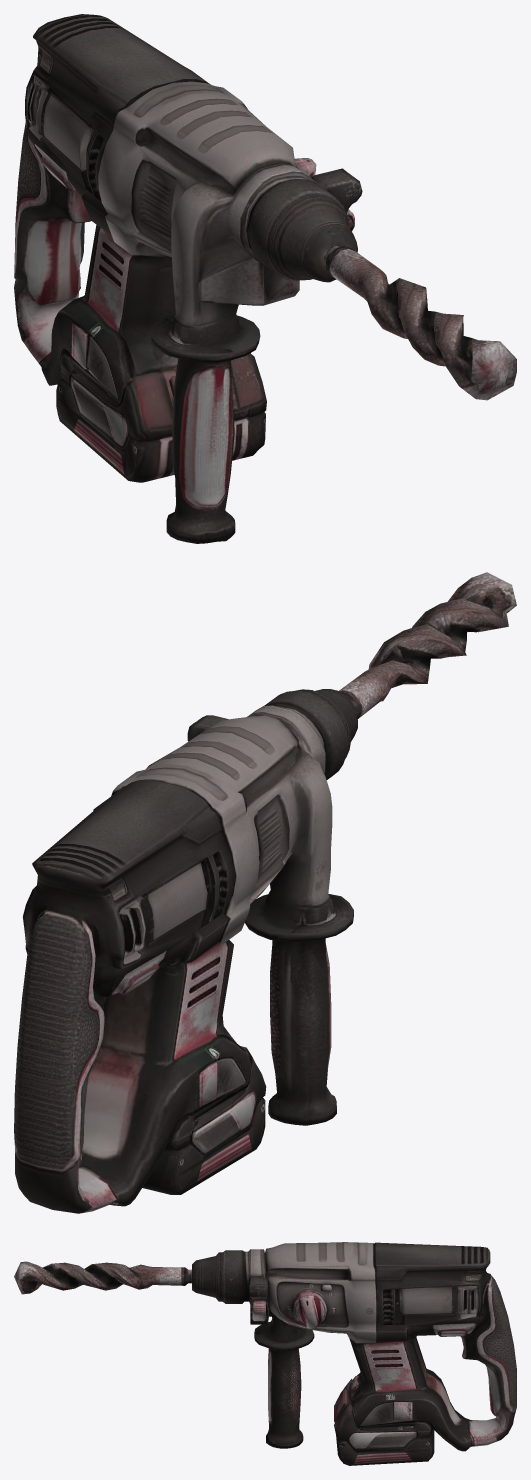
Rendered from drill.glb.
The picture shows the model from 3 angles, top to bottom: view 1: azimuth 30°, elevation 25°; view 2: azimuth 150°, elevation 25°; view 3: azimuth 270°, elevation 25°; orthographic projection. The views are drawn at different scales.
Visible parts, largest first — view 1: tripo_node_a81a40eb-a47a-4063-8103-50328fa86a82; view 2: tripo_node_a81a40eb-a47a-4063-8103-50328fa86a82; view 3: tripo_node_a81a40eb-a47a-4063-8103-50328fa86a82.
Boxes of the visible parts, x1,y1,x2,y2 form: tripo_node_a81a40eb-a47a-4063-8103-50328fa86a82: (14, 14, 516, 543); tripo_node_a81a40eb-a47a-4063-8103-50328fa86a82: (14, 572, 516, 1213); tripo_node_a81a40eb-a47a-4063-8103-50328fa86a82: (14, 1242, 516, 1465).
Size of the model in its own units: 0.2207 by 0.4551 by 0.998.
Materials: 1 (1 with a texture image).
